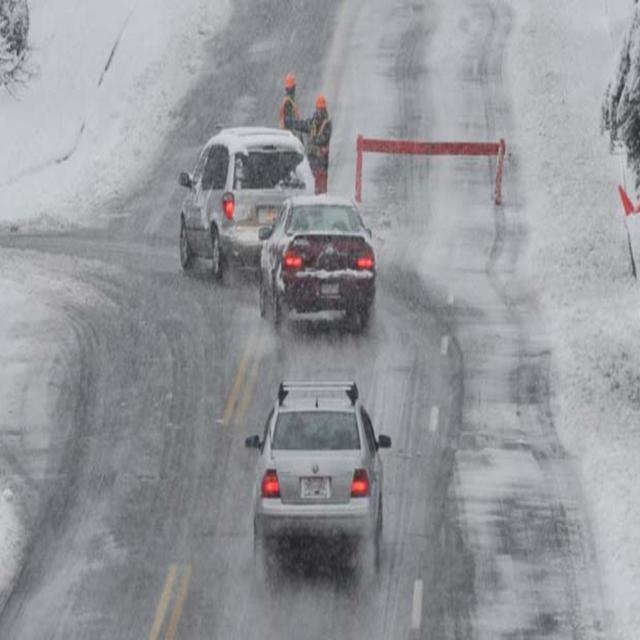Car: (245, 379, 392, 572), (180, 124, 316, 280), (257, 196, 377, 334)
